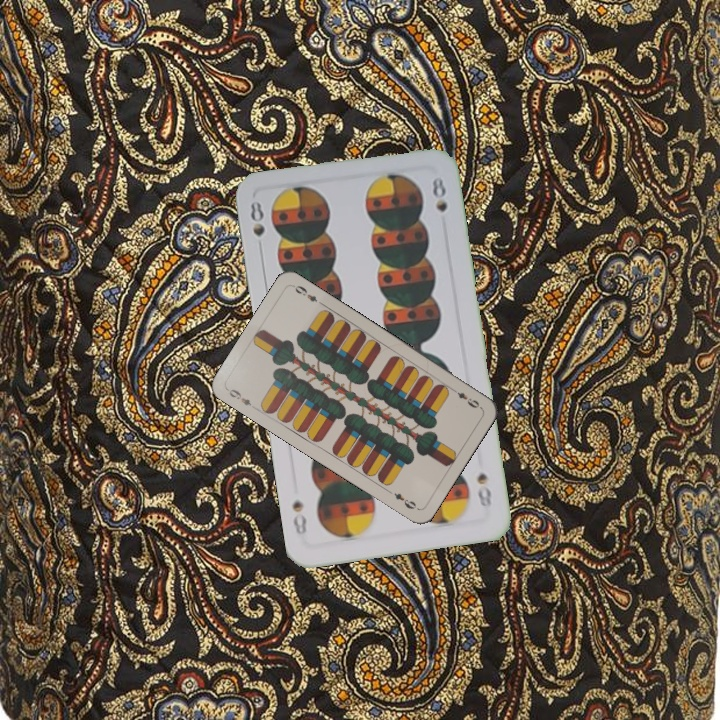E9: (448, 384, 484, 411), (223, 385, 259, 412)
S8: (473, 468, 494, 513), (246, 197, 268, 239)
